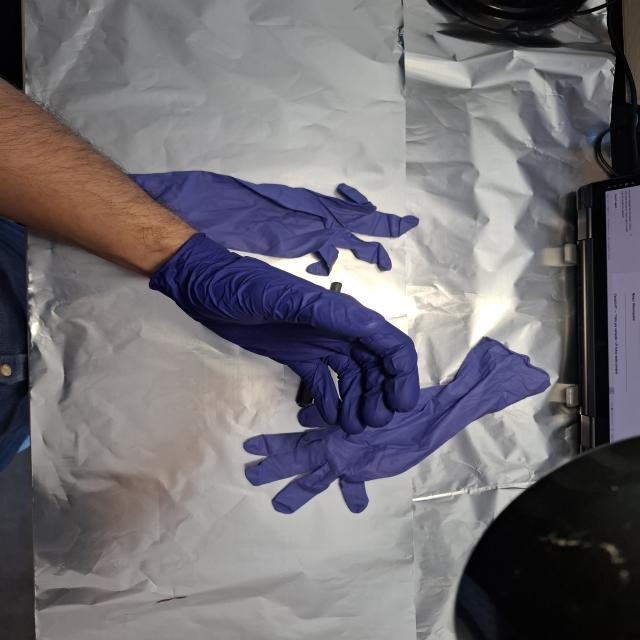glove_on: (144, 229, 424, 437)
